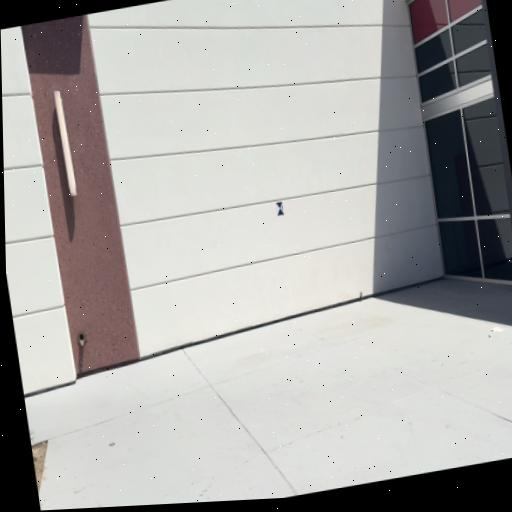target7: (275, 201, 285, 216)
